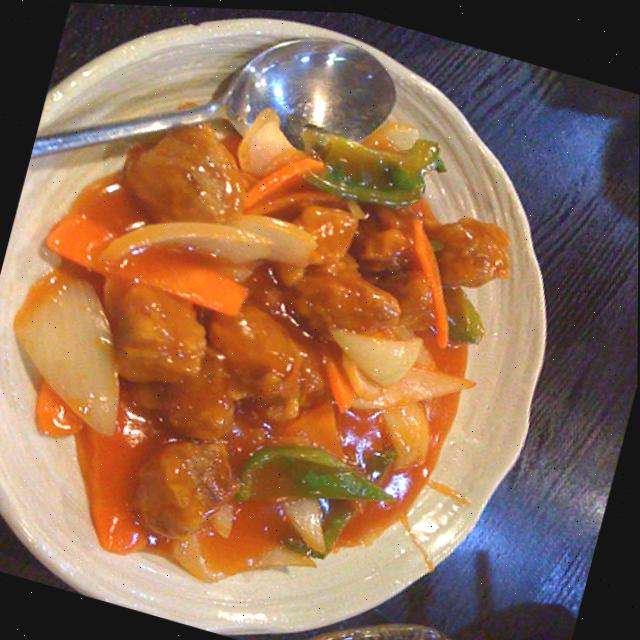猪肉菜式: (0, 25, 547, 640)
